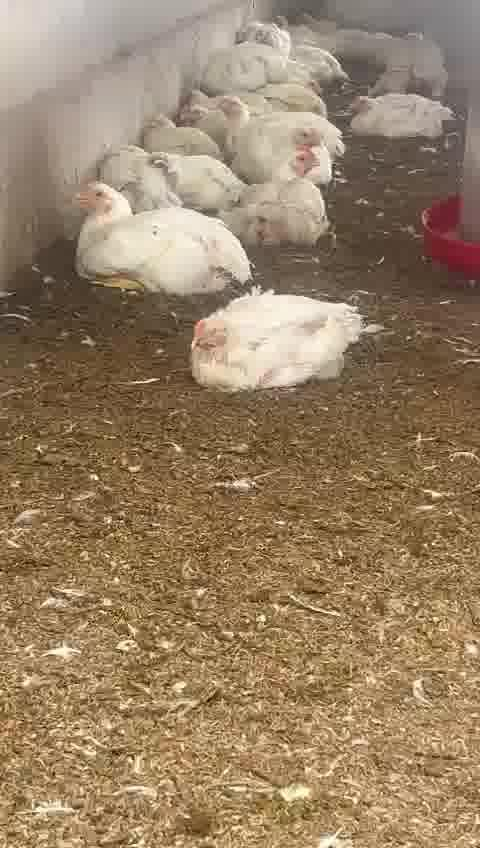AbNormal: (172, 286, 367, 394), (105, 145, 222, 213), (132, 113, 227, 175), (164, 83, 221, 136)
Normal: (70, 180, 251, 304), (242, 153, 334, 247), (344, 81, 453, 153), (210, 96, 350, 140), (240, 126, 339, 170)
